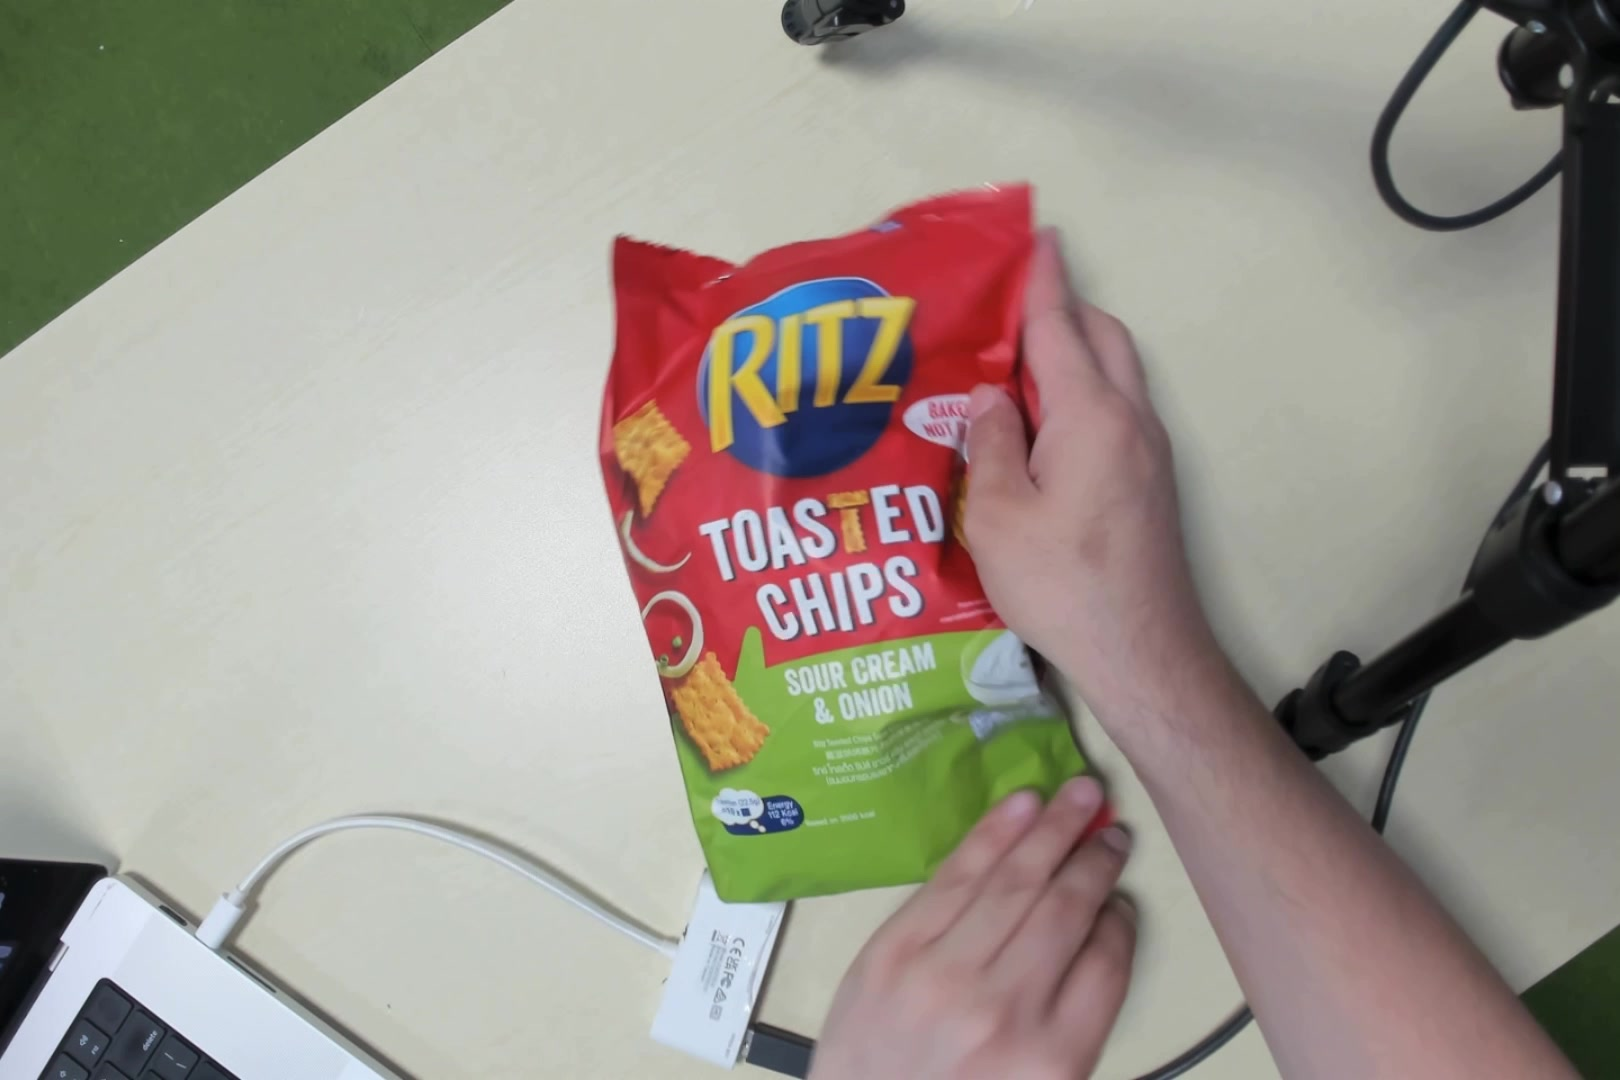BiscuitsCrackersCookies_200-299g_NonHalal_NonHealthy: (633, 250, 1072, 897)
